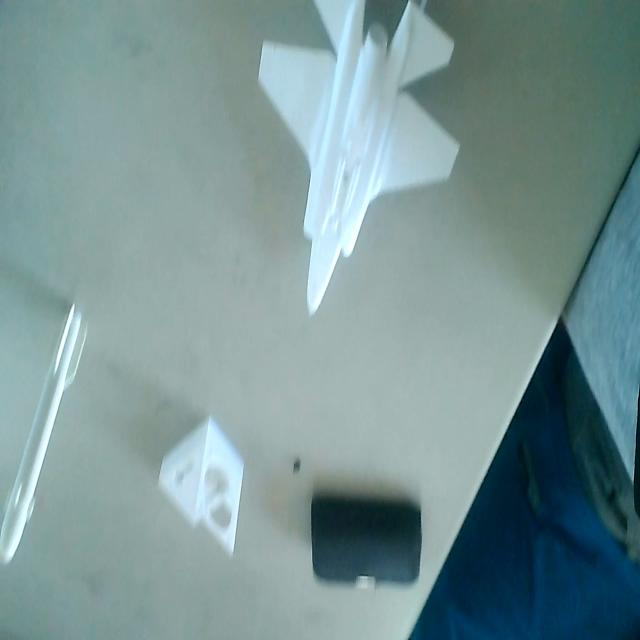Jet: (253, 1, 464, 323)
Rocket: (1, 292, 92, 580)
